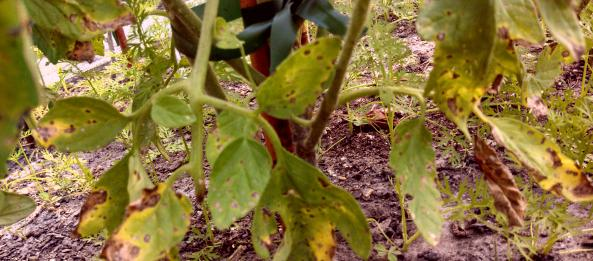Tomato Septoria leaf spot: (416, 6, 509, 135), (481, 115, 592, 200), (258, 36, 339, 125), (390, 118, 446, 244), (104, 181, 191, 261), (203, 137, 276, 230), (27, 95, 126, 163), (66, 155, 146, 237)
